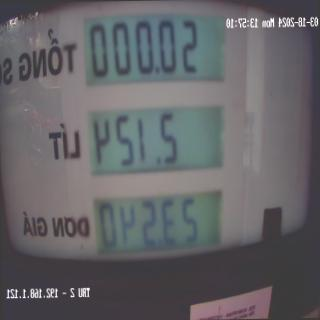screen: (76, 8, 238, 280)
